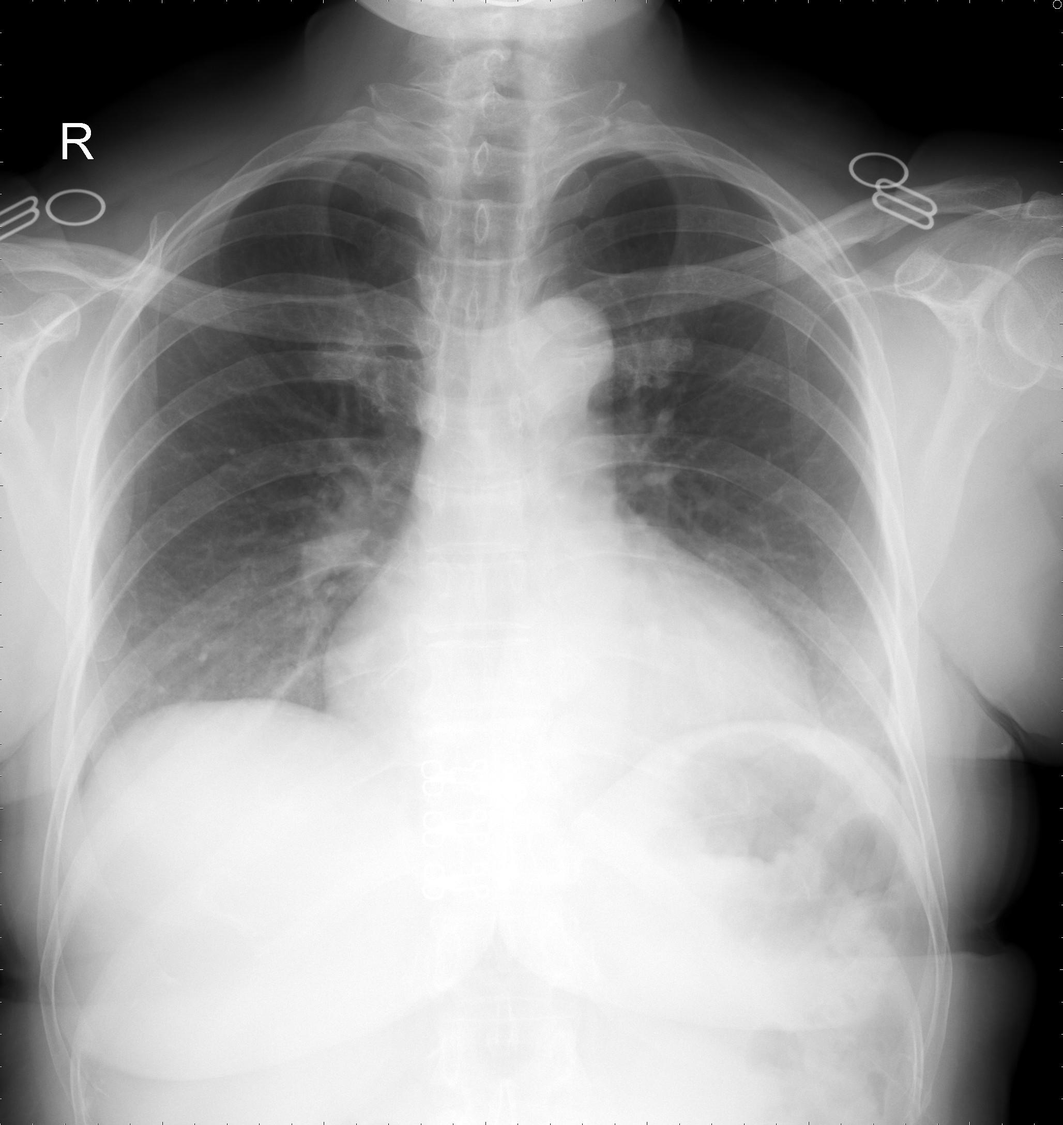Aortic enlargement: (496, 298, 615, 419)
Cardiomegaly: (324, 625, 826, 719)
Pulmonary fibrosis: (277, 653, 320, 696)
